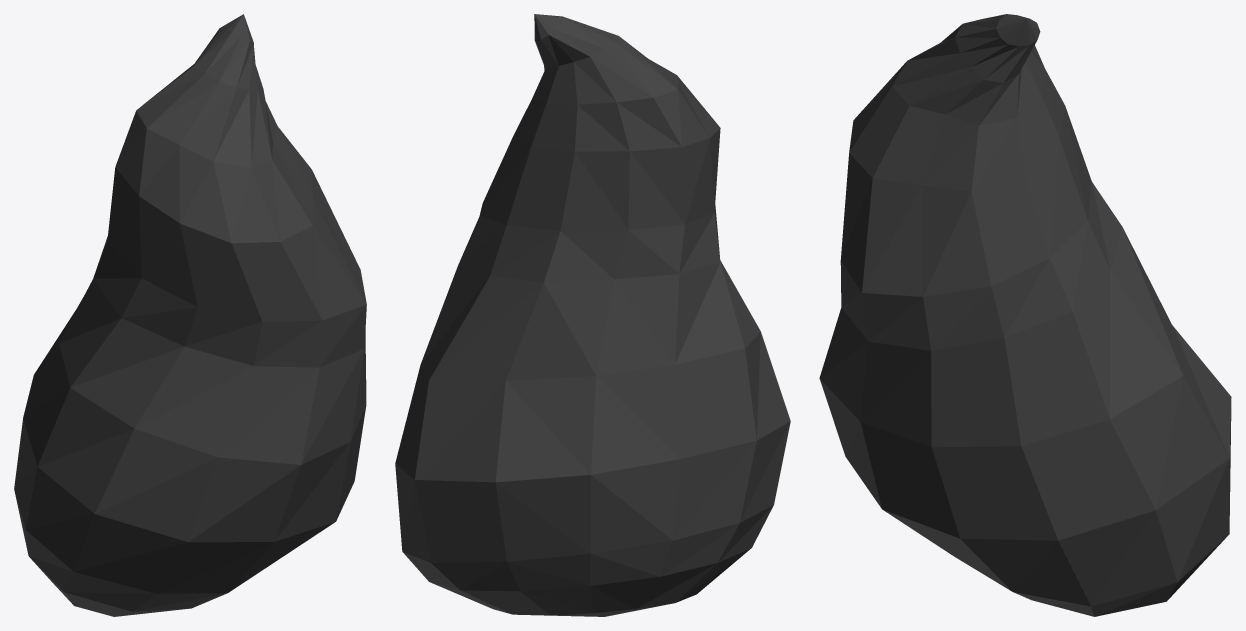
File: Gall_bladder.glb
3 renders of one model, left to right at view 1: azimuth 30°, elevation 25°; view 2: azimuth 150°, elevation 25°; view 3: azimuth 270°, elevation 25°, orthographic. The views are drawn at different scales.
Parts seen in each view (by area): view 1: Gall_bladder; view 2: Gall_bladder; view 3: Gall_bladder.
Boxes of the visible parts, bbox=[...] form: Gall_bladder: bbox=[14, 14, 366, 616]; Gall_bladder: bbox=[395, 14, 790, 616]; Gall_bladder: bbox=[819, 14, 1231, 616].
Bounding box in the file's own units: 25.8 × 44.41 × 27.86.
1 material, 1 textured.
